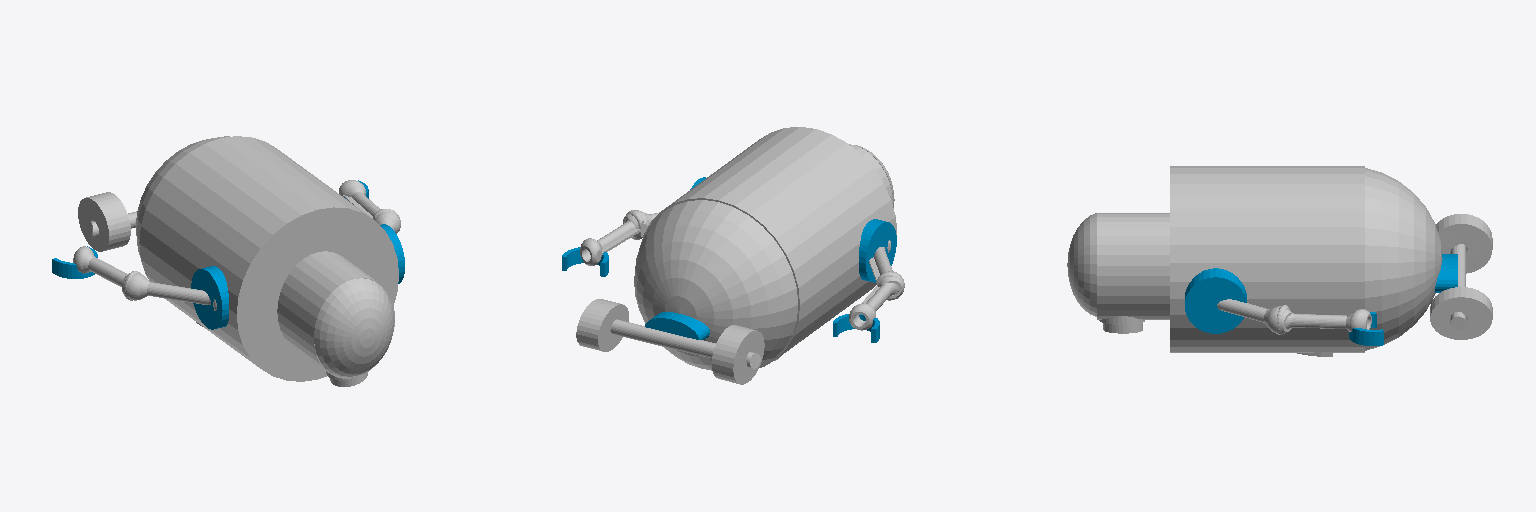
Rendered from tinker copy.obj.
The picture shows the model from 3 angles: view 1: azimuth 30°, elevation 25°; view 2: azimuth 150°, elevation 25°; view 3: azimuth 270°, elevation 25°; orthographic projection.
Parts seen in each view (by area): view 1: obj_0; view 2: obj_0; view 3: obj_0.
Boxes of the visible parts, box(x1,y1,x2,y2) form: obj_0: box(52, 136, 404, 386); obj_0: box(562, 127, 904, 384); obj_0: box(1067, 166, 1492, 356).
Size of the model in its own units: 23.01 by 12 by 27.2.